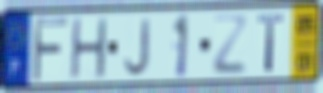1: (172, 12, 190, 80)
F: (30, 15, 71, 85)
H: (68, 15, 109, 81)
J: (123, 16, 153, 78)
T: (256, 12, 287, 75)
Z: (211, 13, 249, 77)
